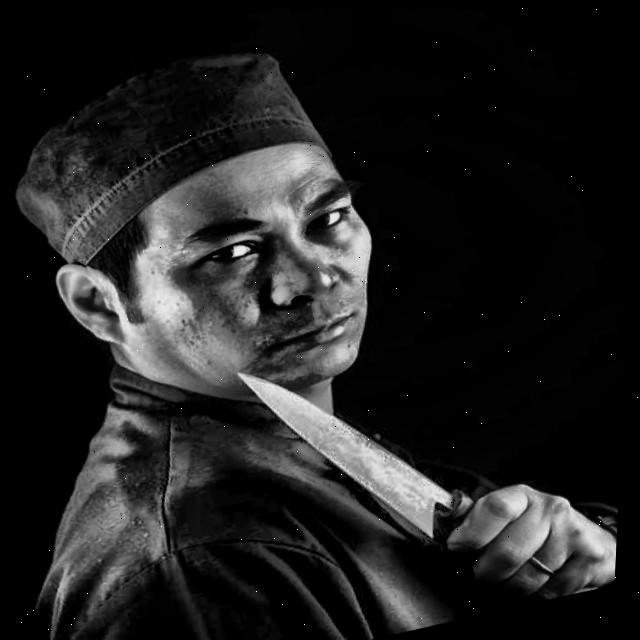pisau: (214, 269, 628, 640)
